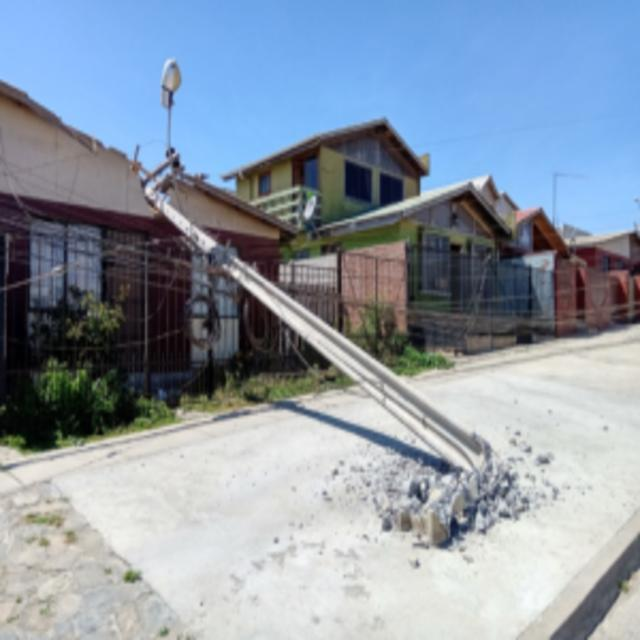Inclined Pole: (136, 56, 508, 549)
